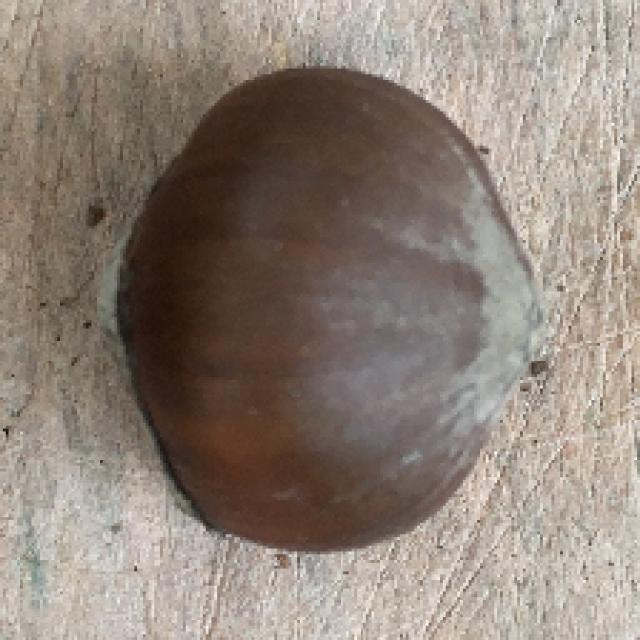damagedHazelnut: (99, 62, 546, 547)
